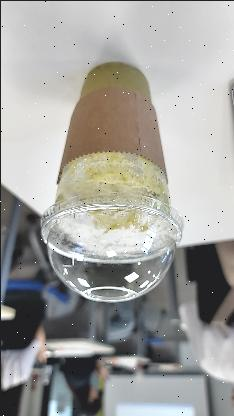Others: (38, 57, 184, 303), (40, 189, 185, 303)
